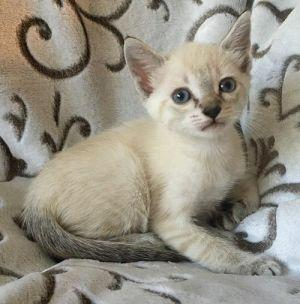siamese: (123, 7, 265, 152)
